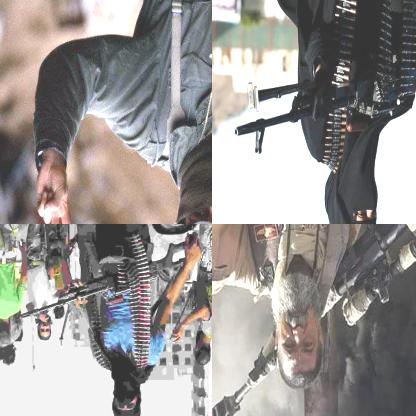rifle: (212, 224, 415, 415), (232, 29, 415, 158), (12, 233, 197, 323)
